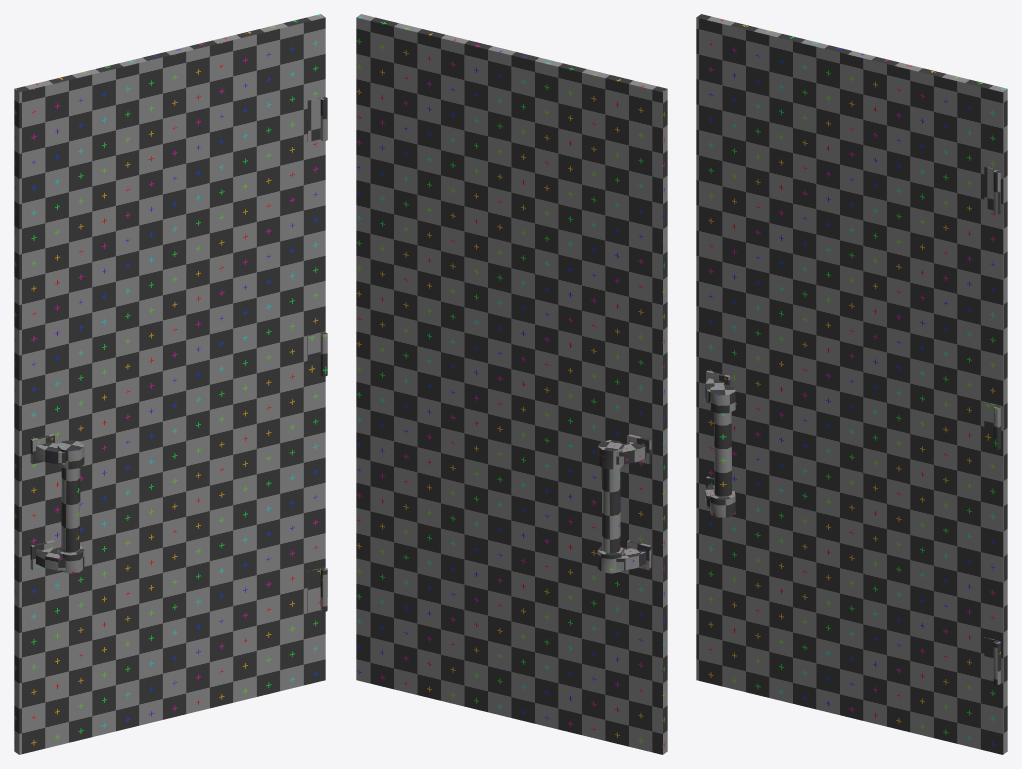
File: door_uv.glb
3 views of the same model, side by side, from view 1: azimuth 30°, elevation 25°; view 2: azimuth 150°, elevation 25°; view 3: azimuth 330°, elevation 25° (orthographic).
Visible parts, largest first — view 1: Door; view 2: Door; view 3: Door.
Boxes of the visible parts, <box> form: Door: <box>14,14,327,754</box>; Door: <box>356,14,667,754</box>; Door: <box>696,14,1007,754</box>.
Size of the model in its own units: 1.86 by 3.84 by 0.4546.
Materials: 1 (1 with a texture image).
